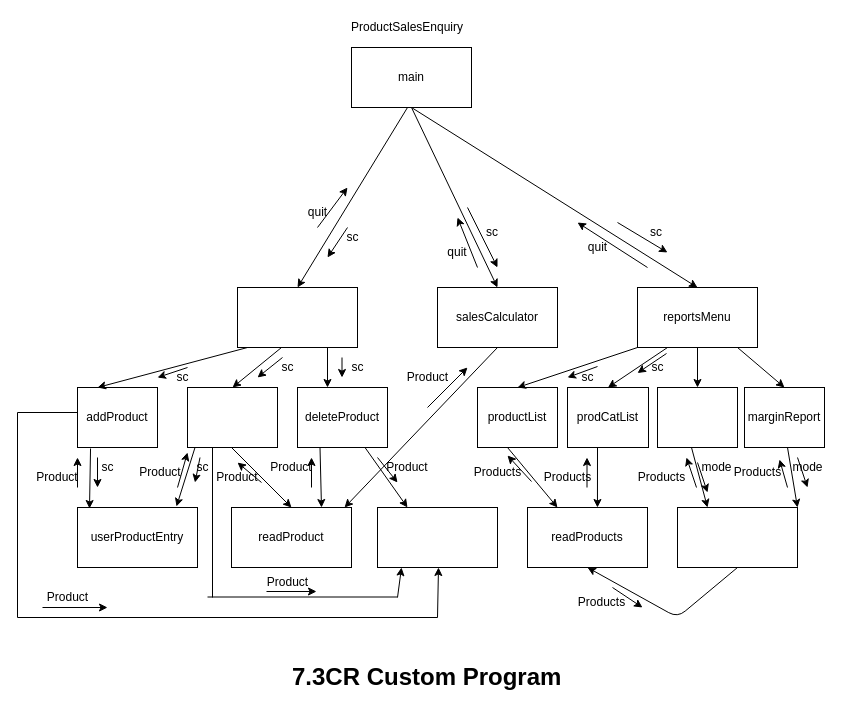
Some shapes in this 850 by 724 pixel diagram are drawn without their labels. Here are the shapes that lost their labels. From the top down, the box of each, then its label:
(236, 286, 358, 348): maintainProducts
(186, 386, 278, 448): changeProduct
(656, 386, 738, 448): profitReport
(376, 506, 498, 568): writeProduct
(676, 506, 798, 568): sortProducts
